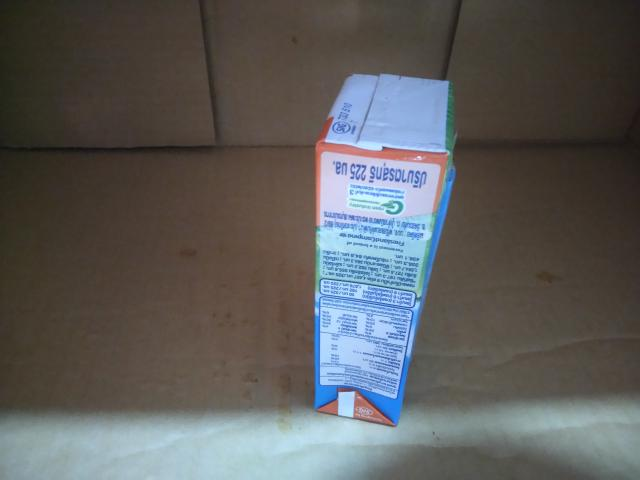drink_box: (290, 43, 460, 437)
